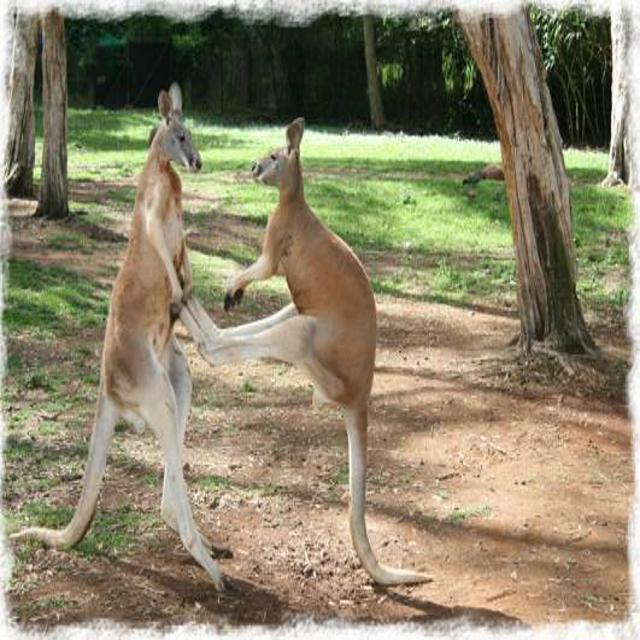kangaroo: (86, 83, 207, 577), (232, 116, 383, 417)
